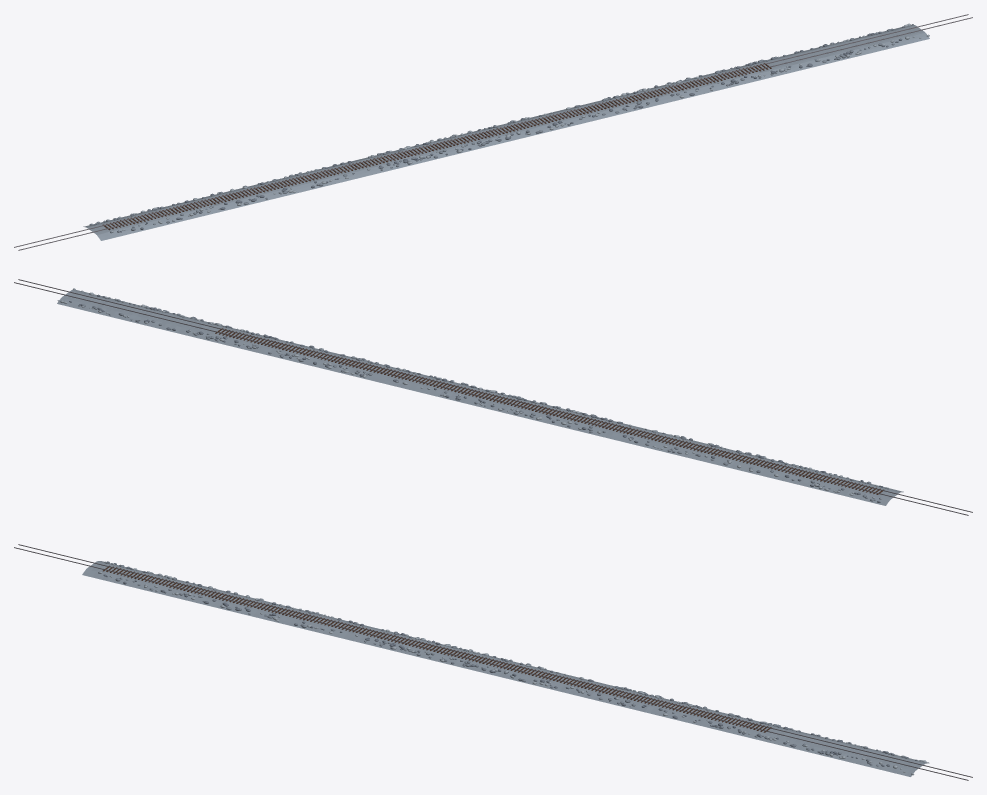
The model's file is causeway.glb.
The picture shows the model from 3 angles, top to bottom: view 1: azimuth 30°, elevation 25°; view 2: azimuth 150°, elevation 25°; view 3: azimuth 330°, elevation 25°; orthographic projection.
Visible parts, largest first — view 1: ballast, rail, sleeper, edge_rock, edge_rock.005, edge_rock.003; view 2: ballast, rail, sleeper, edge_rock, edge_rock.005, edge_rock.003; view 3: ballast, rail, sleeper, edge_rock, edge_rock.005, edge_rock.003.
Boxes of the visible parts, x1=… form: ballast: x1=83, y1=25, x2=929, y2=240; rail: x1=14, y1=14, x2=972, y2=250; sleeper: x1=103, y1=63, x2=771, y2=230; edge_rock: x1=89, y1=26, x2=904, y2=232; edge_rock.005: x1=95, y1=24, x2=913, y2=233; edge_rock.003: x1=91, y1=23, x2=929, y2=232; ballast: x1=57, y1=289, x2=903, y2=505; rail: x1=14, y1=279, x2=972, y2=515; sleeper: x1=215, y1=328, x2=883, y2=494; edge_rock: x1=69, y1=294, x2=883, y2=502; edge_rock.005: x1=57, y1=297, x2=888, y2=501; edge_rock.003: x1=60, y1=288, x2=887, y2=499; ballast: x1=82, y1=561, x2=926, y2=776; rail: x1=14, y1=544, x2=972, y2=780; sleeper: x1=103, y1=565, x2=771, y2=732; edge_rock: x1=103, y1=561, x2=917, y2=766; edge_rock.005: x1=98, y1=563, x2=928, y2=766; edge_rock.003: x1=99, y1=561, x2=926, y2=775.
Size of the model in its own units: 190 by 0.8256 by 6.65.
